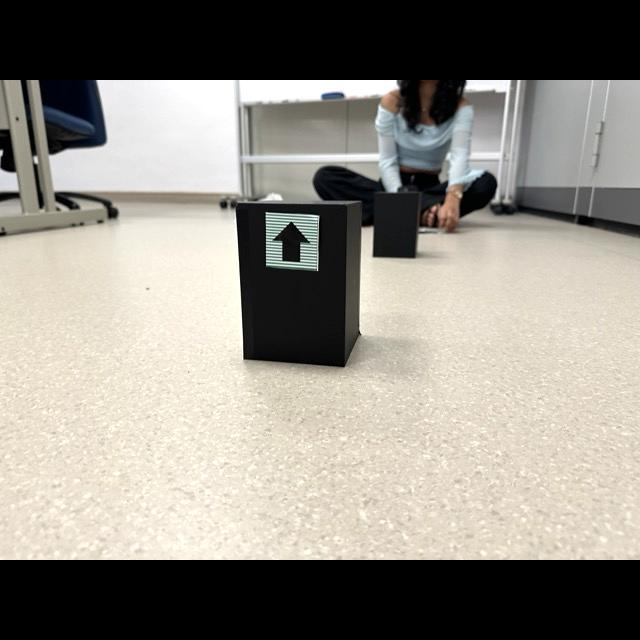UP: (272, 222, 311, 262)
